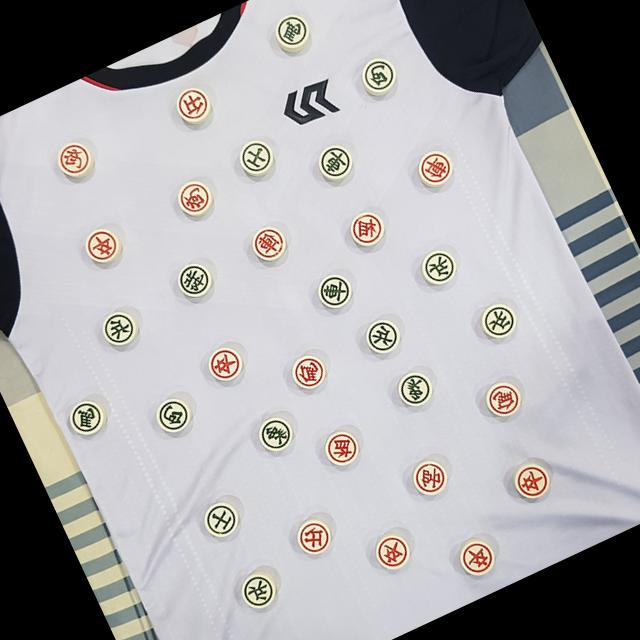black-advisor: (220, 115, 297, 192), (184, 482, 261, 558)
black-cannon: (138, 374, 216, 452), (336, 39, 413, 116)
black-chariot: (296, 256, 374, 334), (296, 126, 373, 204)
black-elephant: (232, 399, 310, 476), (378, 348, 455, 426)
black-general: (154, 248, 231, 326)
black-horse: (46, 388, 124, 465), (246, 0, 323, 71)
black-soldier: (340, 300, 418, 377), (72, 292, 149, 370), (399, 230, 476, 307), (216, 552, 294, 628), (456, 287, 532, 364)
red-advisor: (154, 71, 232, 148), (274, 500, 350, 577)
red-cannon: (32, 124, 109, 200), (152, 162, 229, 238)
red-chariot: (394, 134, 471, 212), (225, 210, 302, 288)
red-elephant: (301, 416, 378, 494), (322, 193, 400, 270)
red-general: (394, 434, 472, 512)
red-horse: (466, 359, 543, 436), (264, 338, 341, 414)
red-soldier: (184, 330, 261, 408), (58, 212, 135, 289), (349, 520, 426, 597), (437, 518, 514, 594), (496, 446, 572, 522)
